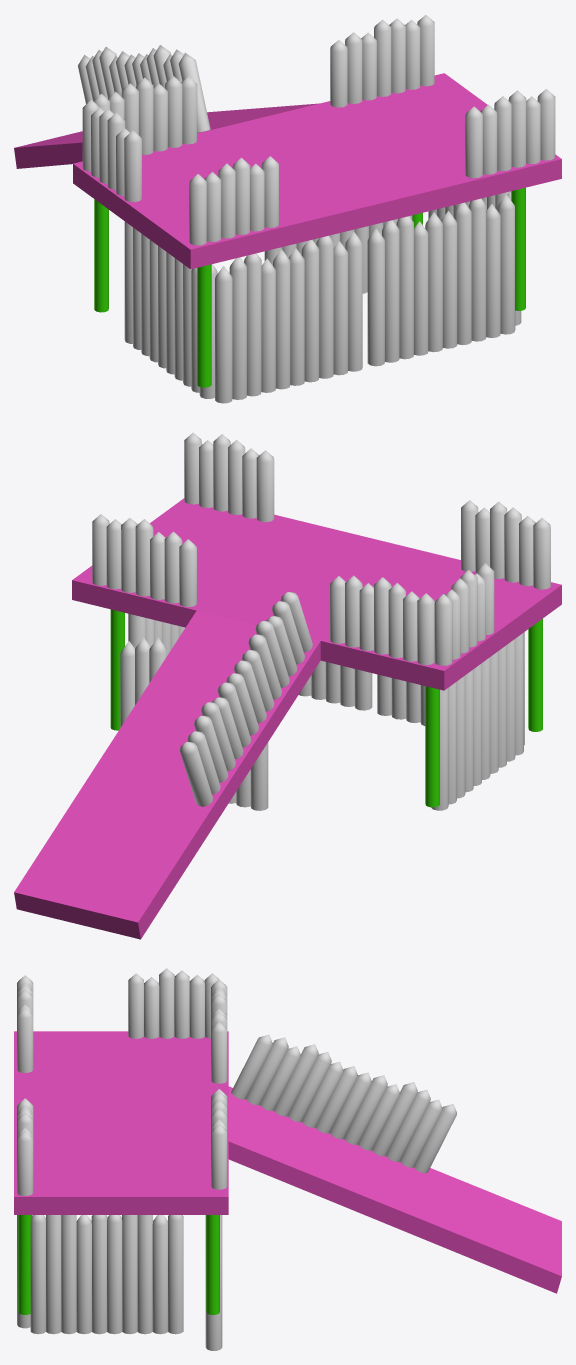
Rendered from Plataforma 2.fbx.
The picture shows the model from 3 angles, top to bottom: view 1: azimuth 30°, elevation 25°; view 2: azimuth 150°, elevation 25°; view 3: azimuth 270°, elevation 25°; orthographic projection. The views are drawn at different scales.
Visible parts, largest first — view 1: Cylinder.040; view 2: Cylinder.040; view 3: Cylinder.040.
Part boxes in pixels (x1,y1,x2,y2): Cylinder.040: (14, 15, 561, 403); Cylinder.040: (14, 432, 561, 939); Cylinder.040: (14, 968, 561, 1350).
Bounding box in the file's own units: 551 × 372 × 770.
